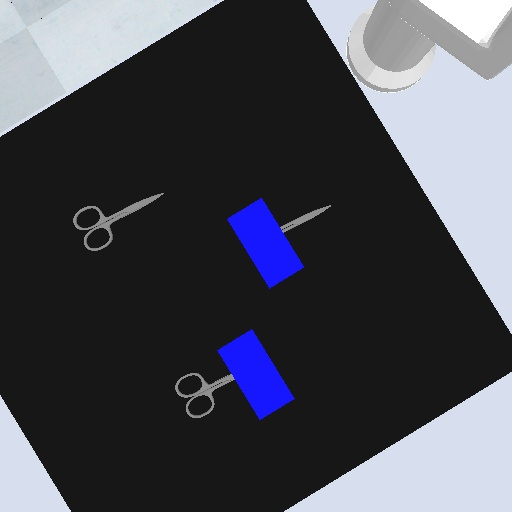tijera: (69, 190, 167, 253), (171, 370, 239, 420), (278, 203, 333, 234)
